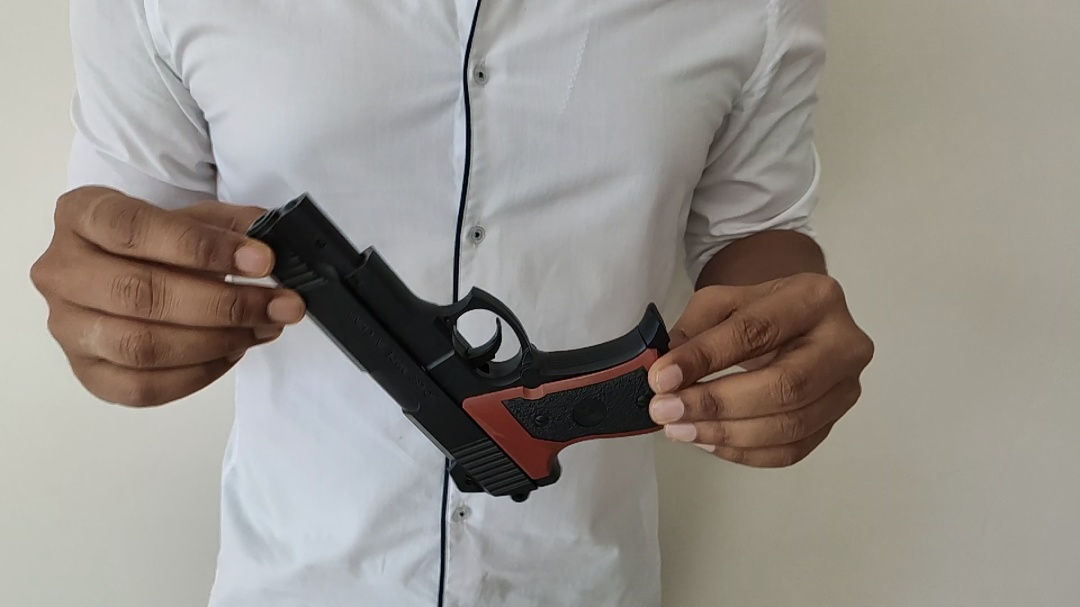gun: (244, 189, 675, 508)
